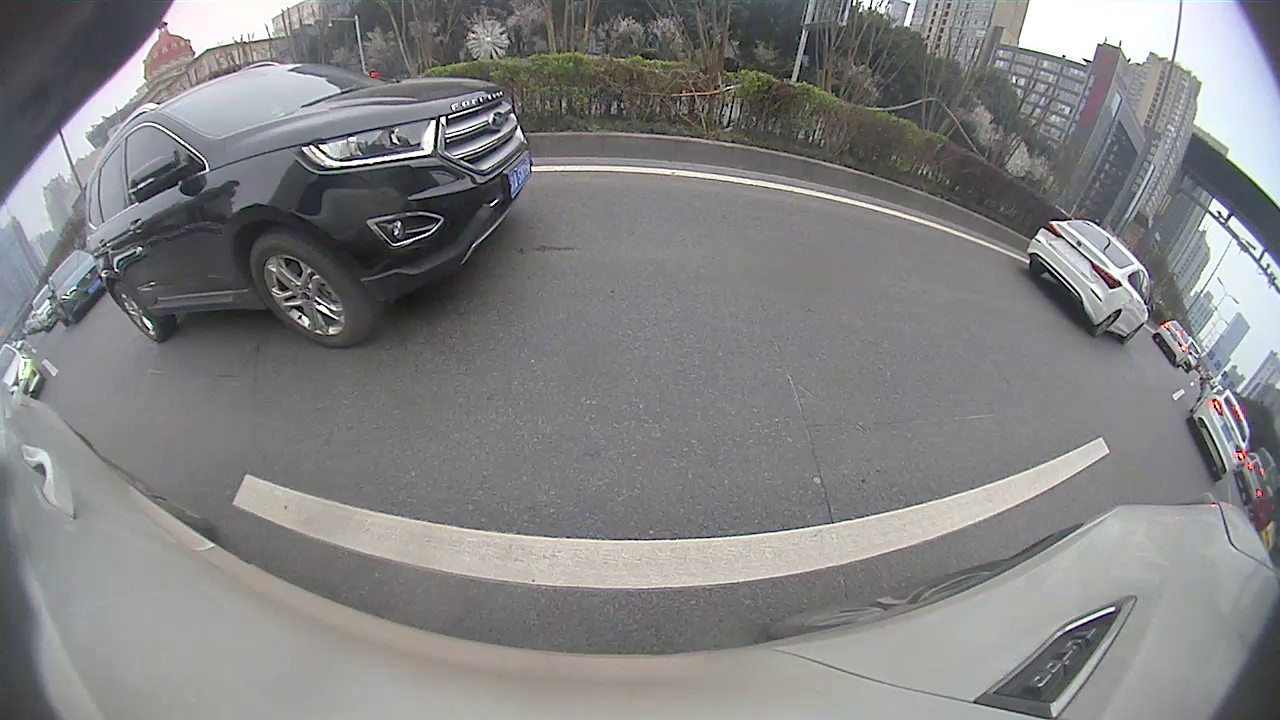car: (83, 60, 535, 348), (1024, 219, 1154, 346), (1185, 384, 1250, 481), (43, 250, 105, 329), (1151, 319, 1193, 369)
front: (248, 234, 366, 345)
rear: (115, 283, 164, 342), (1093, 311, 1121, 337)
